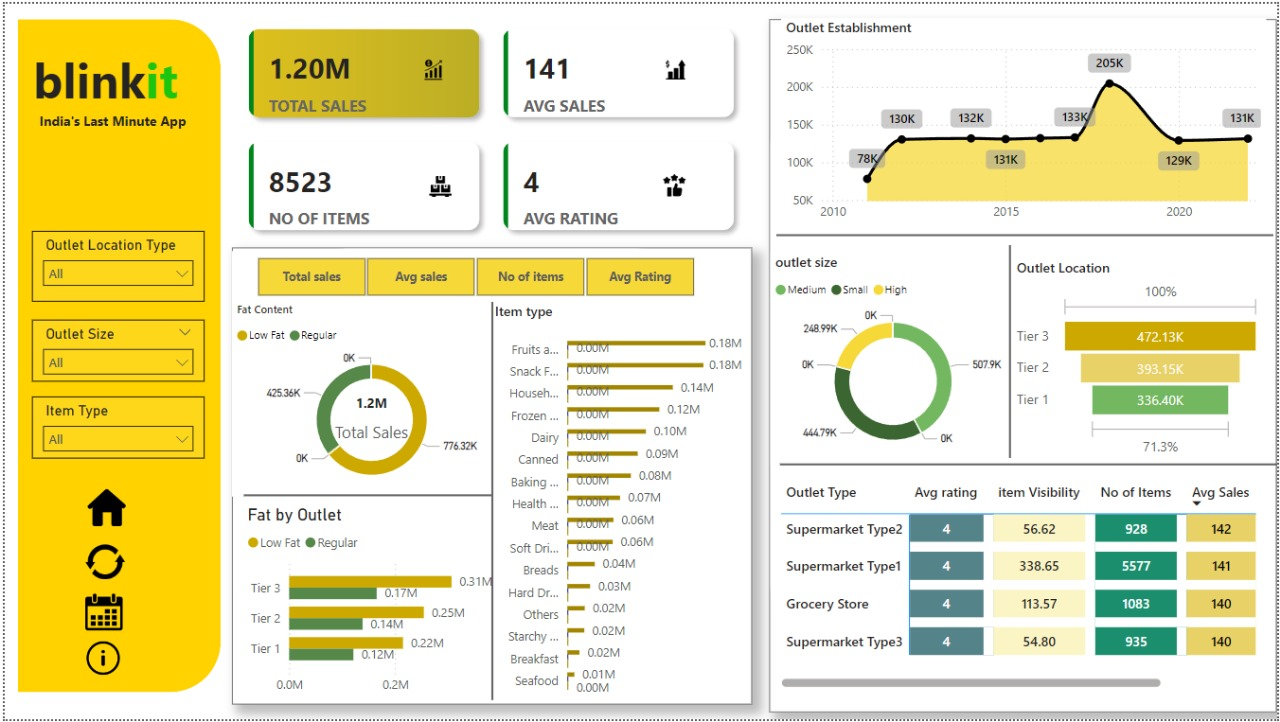

The page's visual inventory and layout, read from the dashboard file:
{"tool":"powerbi","page":{"name":"Page 1","canvas":[1280,720],"ordinal":0},"visuals":[{"type":"shape","box":[12.7,15.5,204.2,677.5],"z":0,"group":"g1"},{"type":"group","id":"g1","title":"Group 1","box":[12.7,15.5,204.2,677.5],"z":0},{"type":"cardVisual","fields":{"Data":["BlinkIT Grocery Data.Total Sales","BlinkIT Grocery Data.Avg Sales","BlinkIT Grocery Data.No of Items","BlinkIT Grocery Data.AVG RATING"]},"box":[228.6,8.6,522.9,237.1],"z":1000},{"type":"textbox","box":[23,38.5,182,86.9],"z":1000,"group":"g1"},{"type":"image","box":[402.8,50.7,57.7,31],"z":2000},{"type":"textbox","box":[29.8,104.1,168.6,32.9],"z":2000,"group":"g1"},{"type":"image","box":[416.9,167.6,43.7,32.4],"z":3000},{"type":"image","box":[76,586.6,47.8,50],"z":3000,"group":"g1"},{"type":"image","box":[646.5,166.2,54.9,32.4],"z":4000},{"type":"image","box":[78.4,482.6,48.6,50],"z":4000,"group":"g1"},{"type":"image","box":[645.1,50.7,59.2,31],"z":5000},{"type":"shape","box":[228.6,245.7,522.9,460],"z":6000},{"type":"donutChart","title":"Fat Content ","fields":{"Y":["BlinkIT Grocery Data.Total Sales","BlinkIT Grocery Data.Avg Sales","BlinkIT Grocery Data.No of Items","BlinkIT Grocery Data.AVG RATING"],"Category":["BlinkIT Grocery Data.Item Fat Content"]},"box":[228.6,300,281.4,195.7],"z":7000},{"type":"slicer","fields":{"Values":["Metrics.Metrics"]},"box":[228.6,248.6,488.6,51.4],"z":8000},{"type":"card","fields":{"Values":["BlinkIT Grocery Data.TOTAL SALES"]},"box":[325.7,382.9,85.7,64.3],"z":9000},{"type":"clusteredBarChart","title":"Fat by Outlet ","fields":{"Y":["BlinkIT Grocery Data.Total Sales"],"Category":["BlinkIT Grocery Data.Outlet Location Type"],"Series":["BlinkIT Grocery Data.Item Fat Content"]},"box":[239.2,504.1,271.6,200],"z":10000},{"type":"clusteredBarChart","title":"Item type","fields":{"Y":["BlinkIT Grocery Data.Total Sales","BlinkIT Grocery Data.Avg Sales","BlinkIT Grocery Data.No of Items","BlinkIT Grocery Data.AVG RATING"],"Category":["BlinkIT Grocery Data.Item Type"]},"box":[511.4,300,258.6,404.3],"z":11000},{"type":"shape","box":[768.8,15.6,510.4,697.4],"z":12000},{"type":"lineChart","title":"Outlet Establishment","fields":{"Category":["BlinkIT Grocery Data.Outlet Establishment Year"],"Y":["Sum(BlinkIT Grocery Data.Sales)"]},"box":[781.1,14.9,487.8,213.5],"z":13000},{"type":"donutChart","title":"outlet size","fields":{"Y":["BlinkIT Grocery Data.Total Sales","BlinkIT Grocery Data.Avg Sales","BlinkIT Grocery Data.No of Items","BlinkIT Grocery Data.AVG RATING"],"Category":["BlinkIT Grocery Data.Outlet Size"]},"box":[770,250,247.1,214.3],"z":14000},{"type":"funnel","title":"Outlet Location","fields":{"Y":["Sum(BlinkIT Grocery Data.Sales)"],"Category":["BlinkIT Grocery Data.Outlet Location Type"]},"box":[1013.5,255.4,255.4,204.1],"z":15000},{"type":"pivotTable","fields":{"Rows":["BlinkIT Grocery Data.Outlet Type"],"Values":["BlinkIT Grocery Data.Avg Rating","Sum(BlinkIT Grocery Data.Item Visibility)","BlinkIT Grocery Data.No of Items","BlinkIT Grocery Data.Avg Sales","BlinkIT Grocery Data.Total Sales"]},"box":[775.7,471.4,487.1,221.4],"z":16000},{"type":"shape","box":[240,488.6,272.9,12.9],"z":17000},{"type":"shape","box":[775.7,228.6,500,8.6],"z":18000},{"type":"shape","box":[780,457.1,500,12.9],"z":19000},{"type":"shape","box":[1004.3,242.9,12.9,214.3],"z":20000},{"type":"shape","box":[504.3,300,12.9,401.4],"z":21000},{"type":"slicer","fields":{"Values":["BlinkIT Grocery Data.Outlet Location Type"]},"box":[27.8,228.9,173.3,71.1],"z":22000},{"type":"slicer","fields":{"Values":["BlinkIT Grocery Data.Outlet Size"]},"box":[27.8,317.8,173.3,62.2],"z":23000},{"type":"slicer","fields":{"Values":["BlinkIT Grocery Data.Item Type"]},"box":[27.8,395.6,173.3,62.2],"z":24000},{"type":"image","box":[74.4,636.7,47.8,43.3],"z":25000},{"type":"image","box":[76.7,536.7,50,50],"z":26000}]}

Visuals, with their boxes in screenshot pixels (x1, y1, x2, y2), scaled from the page's 1280x720 canvas onto the 1280x722 screenshot:
shape: bbox=(13, 16, 217, 695)
"Group 1" group: bbox=(13, 16, 217, 695)
cardVisual - BlinkIT Grocery Data.Total Sales x BlinkIT Grocery Data.Avg Sales: bbox=(229, 9, 752, 246)
textbox: bbox=(23, 39, 205, 126)
image: bbox=(403, 51, 460, 82)
textbox: bbox=(30, 104, 198, 137)
image: bbox=(417, 168, 461, 201)
image: bbox=(76, 588, 124, 638)
image: bbox=(646, 167, 701, 199)
image: bbox=(78, 484, 127, 534)
image: bbox=(645, 51, 704, 82)
shape: bbox=(229, 246, 752, 708)
"Fat Content " donutChart: bbox=(229, 301, 510, 497)
slicer - Metrics.Metrics: bbox=(229, 249, 717, 301)
card - BlinkIT Grocery Data.TOTAL SALES: bbox=(326, 384, 411, 448)
"Fat by Outlet " clusteredBarChart: bbox=(239, 506, 511, 706)
"Item type" clusteredBarChart: bbox=(511, 301, 770, 706)
shape: bbox=(769, 16, 1279, 715)
"Outlet Establishment" lineChart: bbox=(781, 15, 1269, 229)
"outlet size" donutChart: bbox=(770, 251, 1017, 466)
"Outlet Location" funnel: bbox=(1014, 256, 1269, 461)
pivotTable - BlinkIT Grocery Data.Outlet Type x BlinkIT Grocery Data.Avg Rating: bbox=(776, 473, 1263, 695)
shape: bbox=(240, 490, 513, 503)
shape: bbox=(776, 229, 1276, 238)
shape: bbox=(780, 458, 1279, 471)
shape: bbox=(1004, 244, 1017, 458)
shape: bbox=(504, 301, 517, 703)
slicer - BlinkIT Grocery Data.Outlet Location Type: bbox=(28, 230, 201, 301)
slicer - BlinkIT Grocery Data.Outlet Size: bbox=(28, 319, 201, 381)
slicer - BlinkIT Grocery Data.Item Type: bbox=(28, 397, 201, 459)
image: bbox=(74, 638, 122, 682)
image: bbox=(77, 538, 127, 588)
